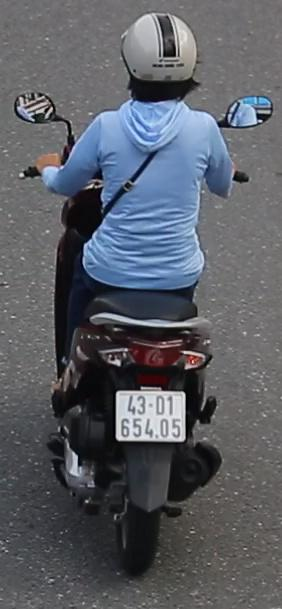LP: (113, 384, 189, 447)
helmet: (118, 7, 200, 112)
